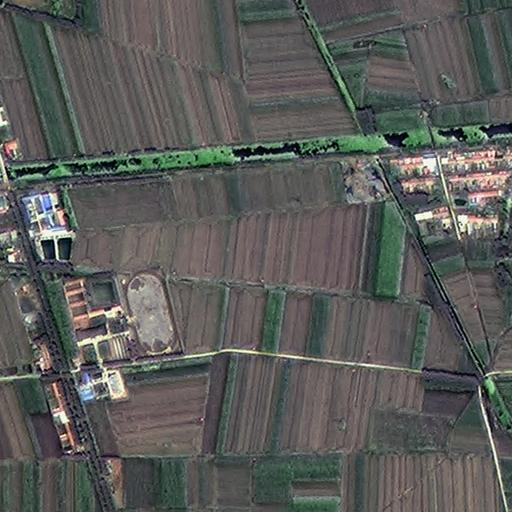school: (62, 269, 184, 369)
